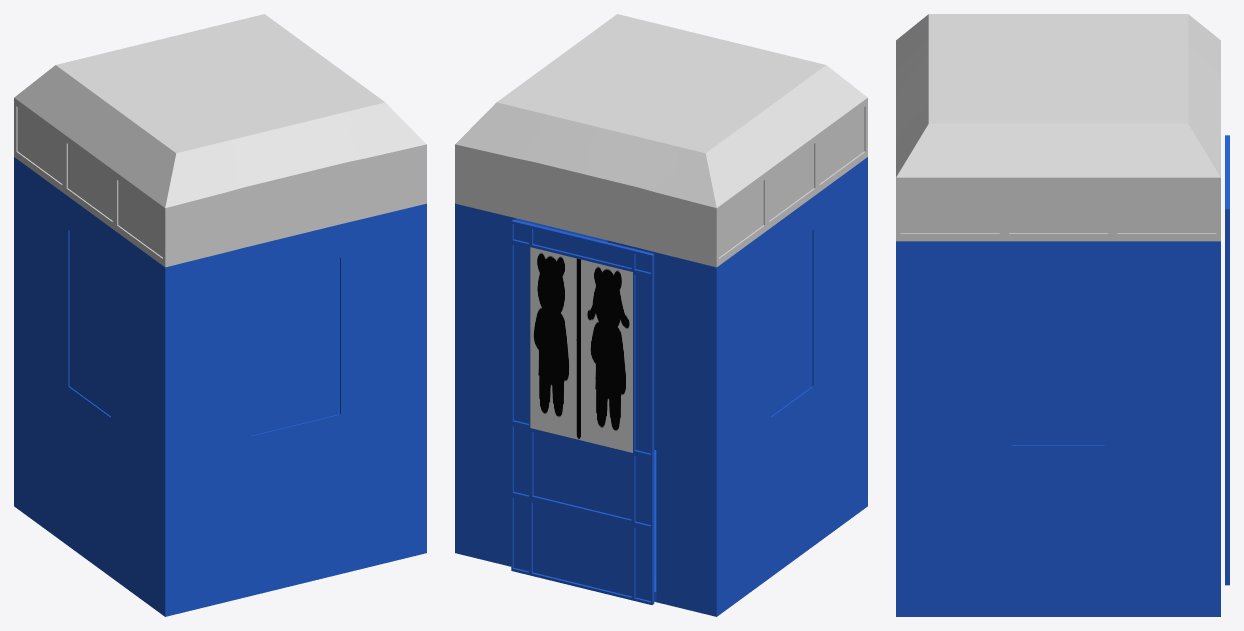
The model's file is portapottyv4.fbx.
3 views of the same model, side by side, from view 1: azimuth 30°, elevation 25°; view 2: azimuth 150°, elevation 25°; view 3: azimuth 270°, elevation 25° (orthographic). The views are drawn at different scales.
Visible parts, largest first — view 1: Cube.001; view 2: Cube.001, Cube.002; view 3: Cube.001, Cube.002.
Part boxes in pixels (x1,y1,x2,y2): Cube.001: (14, 14, 426, 616); Cube.001: (455, 14, 867, 616); Cube.002: (511, 219, 654, 604); Cube.001: (896, 14, 1220, 616); Cube.002: (1225, 135, 1229, 585).
Size of the model in its own units: 114 by 185 by 117.
Materials: 3 (1 with a texture image).
